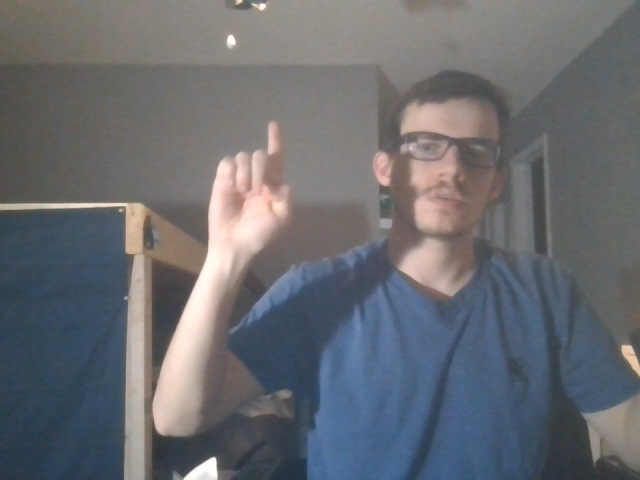D: (206, 119, 305, 255)
